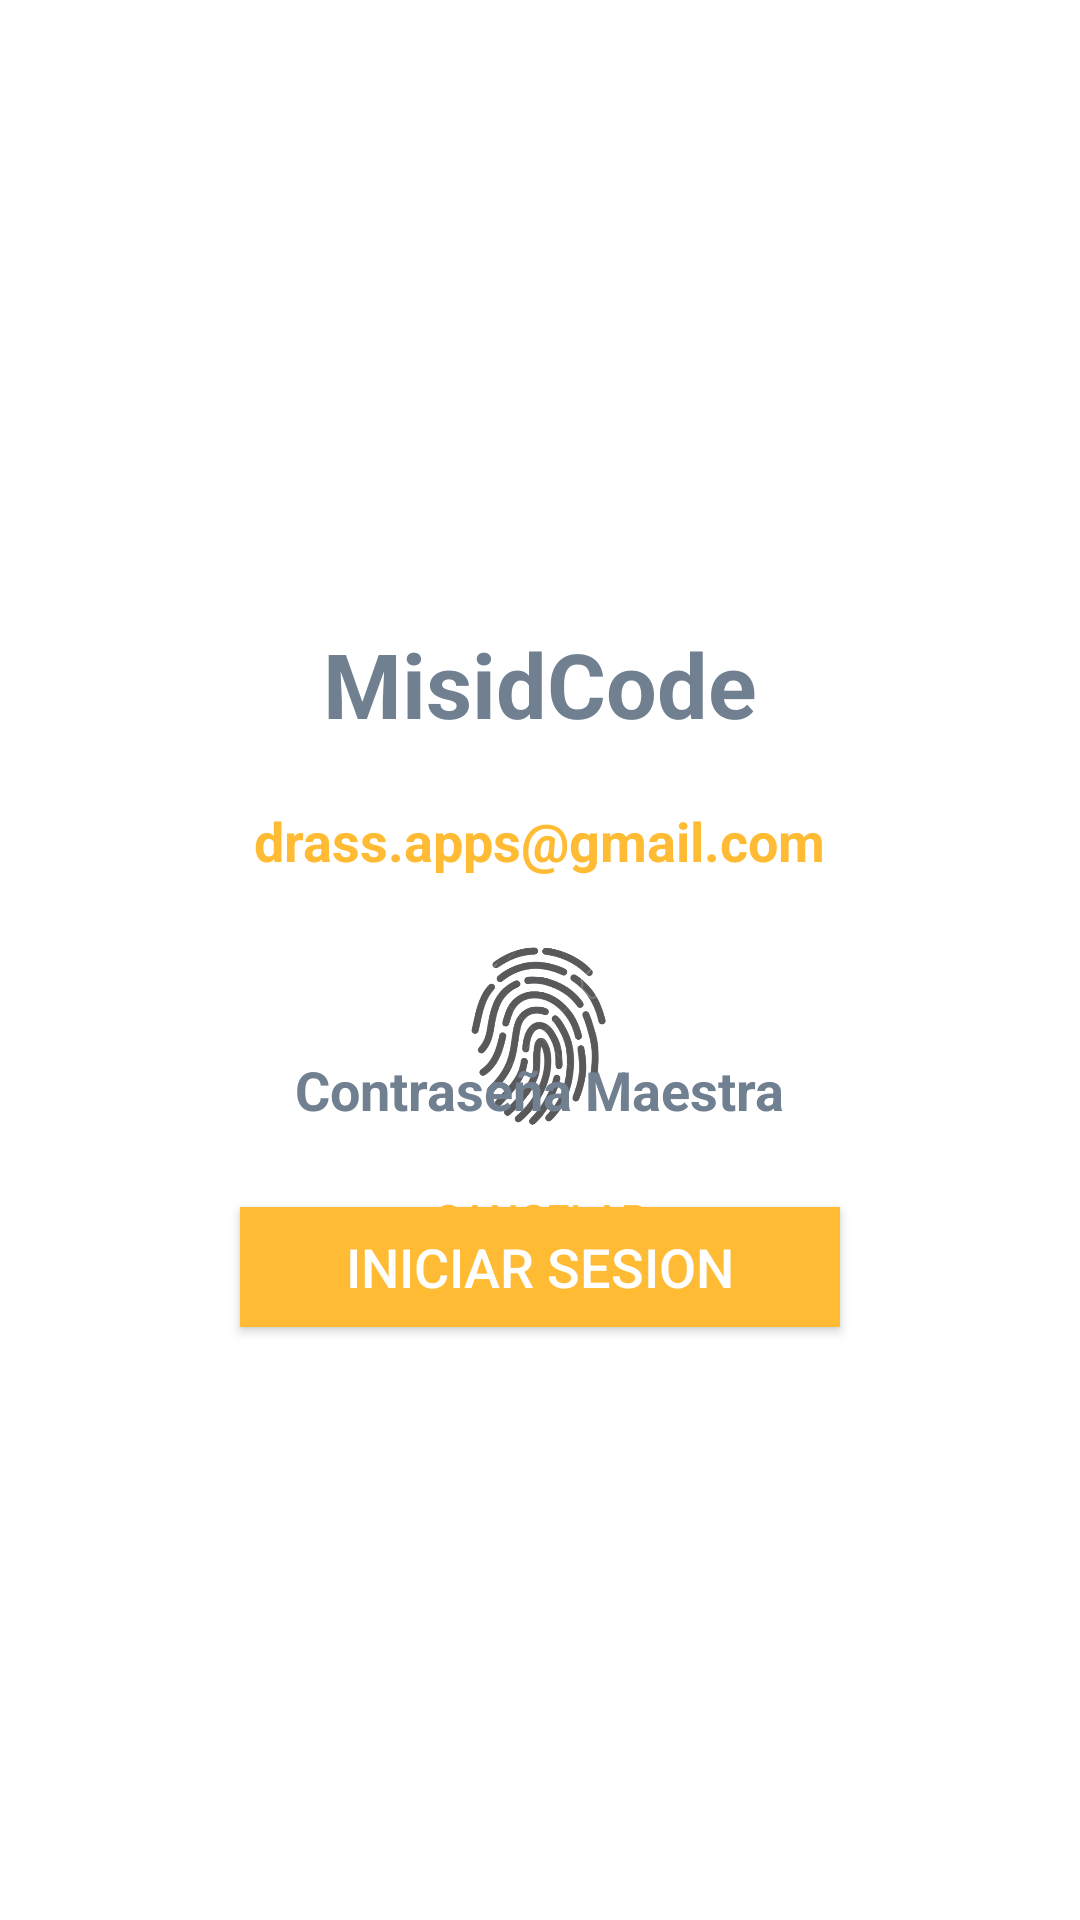

Point at icon controls on the screen. Image size 1080×1920, points as (x=x, y=y).
huella: (x=543, y=1036)
